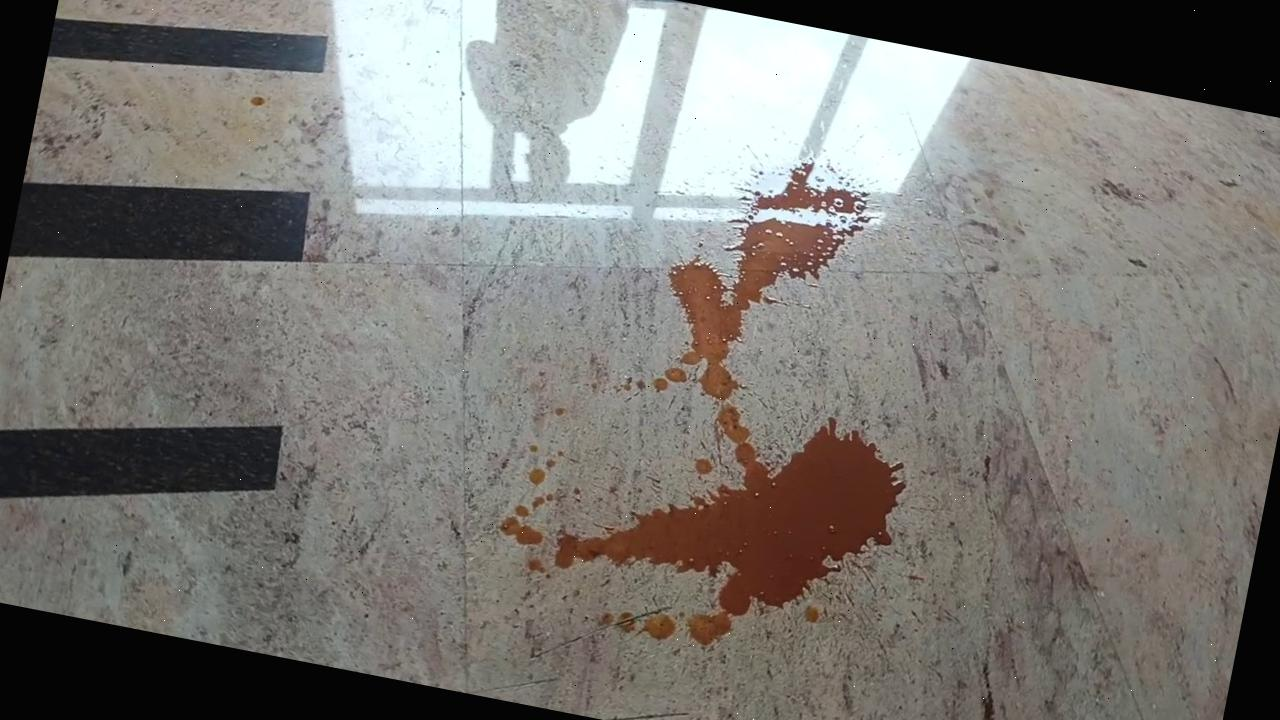dirty_floor: (492, 110, 966, 680)
